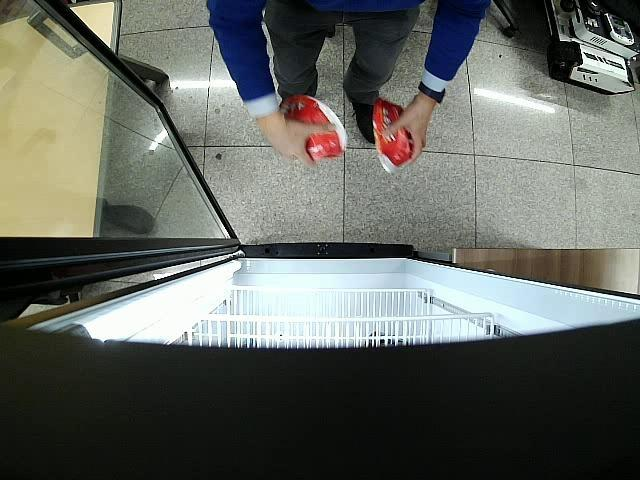10_wangTtukkeong: (279, 95, 348, 161), (374, 98, 414, 175)
